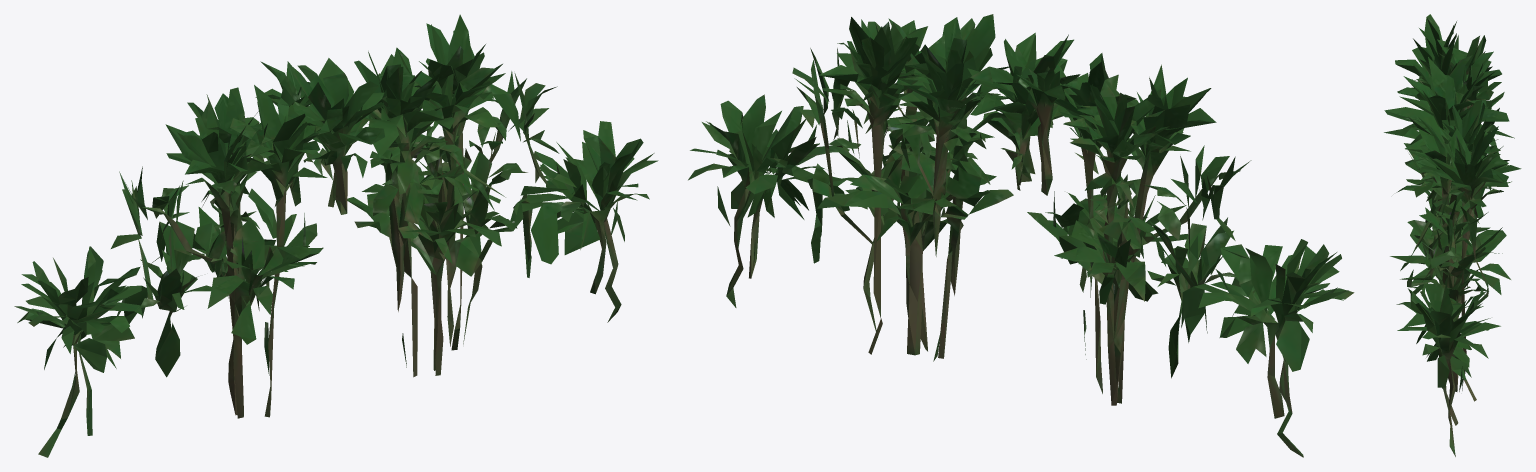
File: scene_undergrowth.glb
3 views of the same model, side by side, from view 1: azimuth 30°, elevation 25°; view 2: azimuth 150°, elevation 25°; view 3: azimuth 270°, elevation 25° (orthographic). The views are drawn at different scales.
Bounding box in the file's own units: 1.87 × 0.9362 × 0.4213.
1 material, 1 textured.
